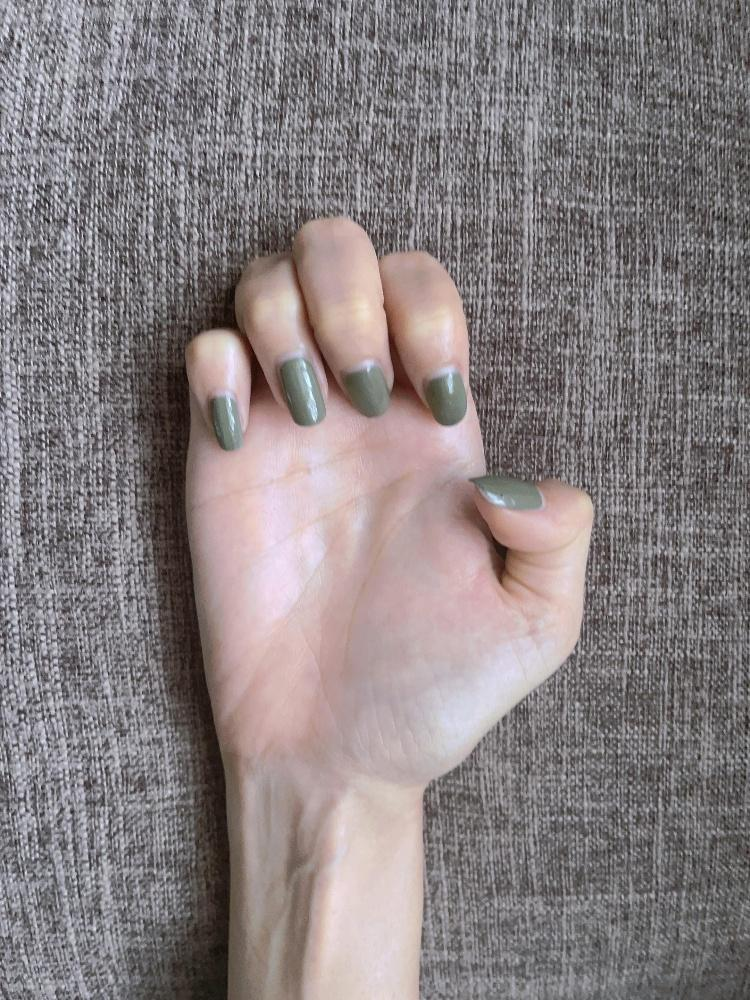e: (176, 209, 596, 780)
